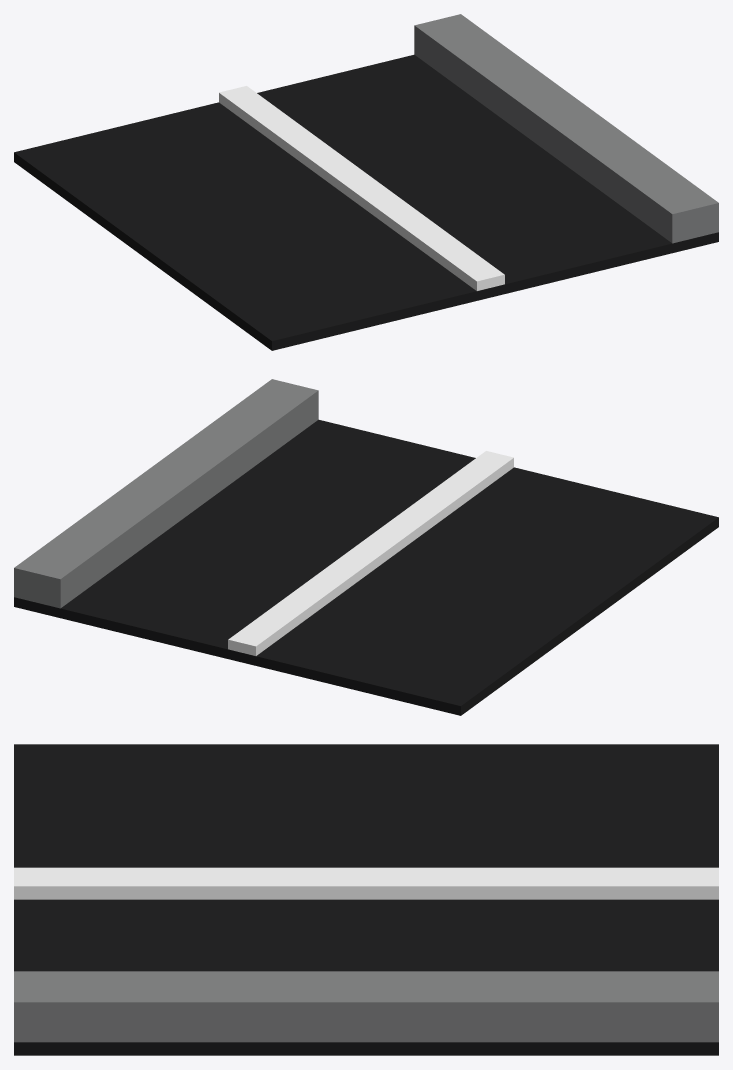
File: gutter.gltf
3 views of the same model, one above another, from view 1: azimuth 30°, elevation 25°; view 2: azimuth 150°, elevation 25°; view 3: azimuth 270°, elevation 25° (orthographic). The views are drawn at different scales.
Visible parts, largest first — view 1: RoadPlane, gutter, roadLine; view 2: RoadPlane, gutter, roadLine; view 3: RoadPlane, gutter, roadLine.
Boxes of the visible parts, <box> form: RoadPlane: <box>14,54,718,350</box>; gutter: <box>414,14,718,243</box>; roadLine: <box>219,86,504,290</box>; RoadPlane: <box>14,419,718,715</box>; gutter: <box>14,379,318,608</box>; roadLine: <box>228,451,513,655</box>; RoadPlane: <box>14,744,718,1055</box>; gutter: <box>14,971,718,1042</box>; roadLine: <box>14,867,718,899</box>.
Bounding box in the file's own units: 3 × 0.25 × 3.
Materials: 1 (1 with a texture image).
